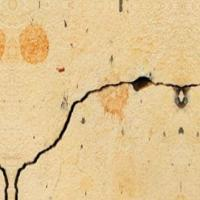crack: (0, 71, 199, 199)
